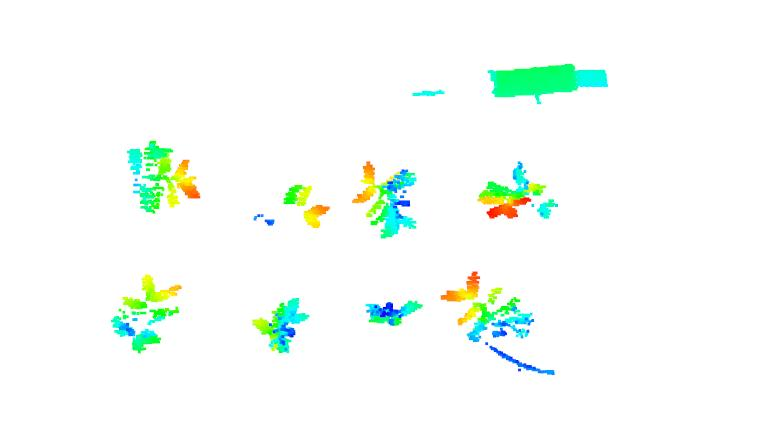chickpea: (443, 269, 540, 347), (104, 269, 186, 355), (122, 138, 202, 218), (349, 158, 421, 245), (476, 155, 553, 223), (249, 291, 312, 358), (281, 182, 331, 232), (364, 295, 427, 331)
